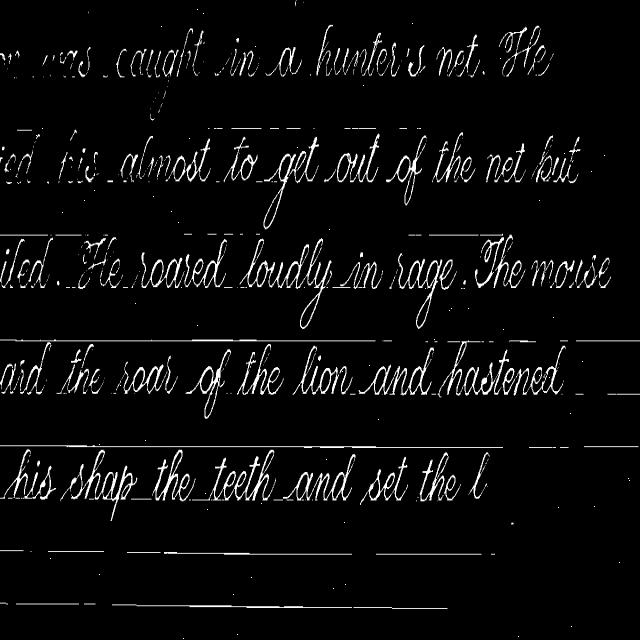noise: (109, 600, 447, 612), (0, 443, 504, 450), (0, 47, 92, 78), (0, 338, 376, 344), (125, 549, 356, 557), (0, 143, 34, 184), (370, 550, 484, 557), (14, 601, 102, 608), (426, 232, 503, 239), (46, 549, 106, 555), (580, 444, 640, 449), (220, 229, 261, 236), (56, 277, 76, 289), (575, 340, 640, 343), (528, 444, 570, 448), (0, 548, 26, 554), (0, 233, 51, 236), (231, 125, 280, 128), (16, 127, 38, 133), (0, 596, 9, 608), (54, 233, 89, 236), (286, 126, 302, 131), (183, 231, 192, 236), (408, 233, 422, 236), (207, 233, 217, 236)
not-noise: (0, 339, 566, 403), (0, 448, 490, 504), (120, 128, 476, 195), (116, 33, 486, 78), (243, 238, 331, 328), (476, 235, 610, 288), (390, 253, 456, 328), (484, 136, 580, 183), (136, 239, 226, 288), (0, 236, 52, 288), (498, 32, 554, 76), (78, 236, 120, 288), (58, 131, 98, 183), (340, 252, 382, 289)
